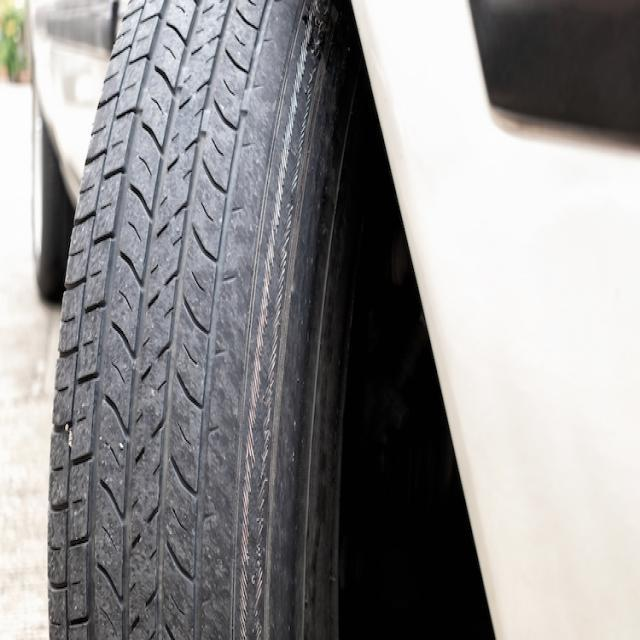Flat spots: (207, 244, 324, 640), (252, 2, 328, 234)
Non-defective: (128, 0, 198, 638), (52, 229, 121, 640)
